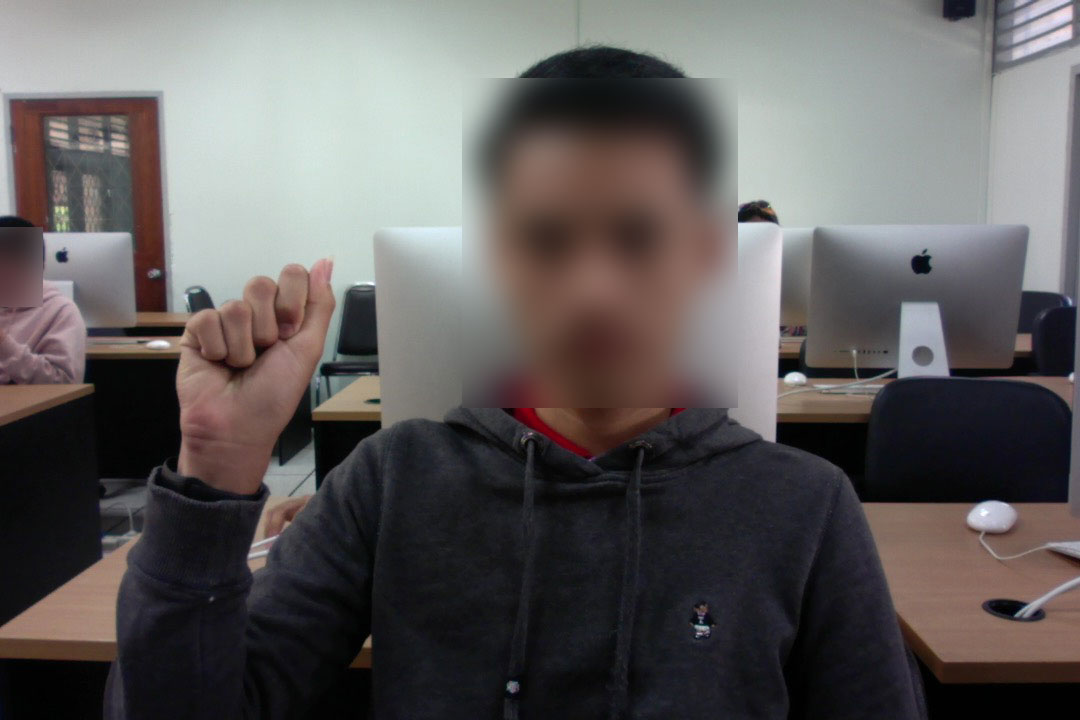or: (163, 245, 343, 457)
